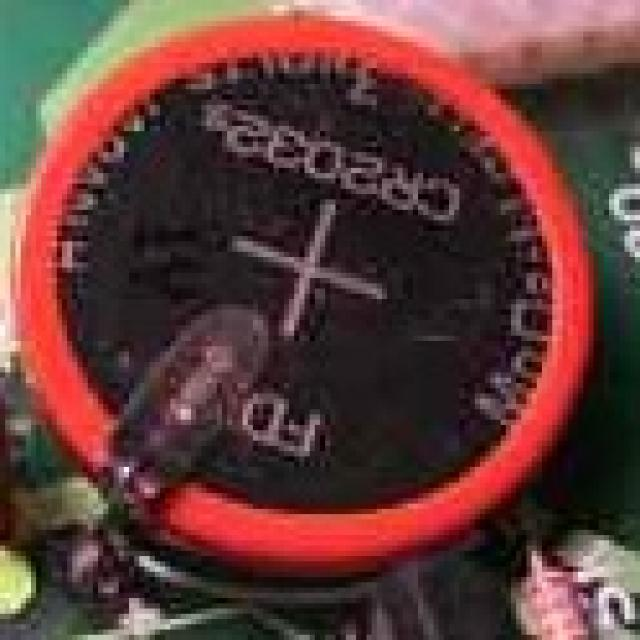battery: (46, 1, 586, 561)
